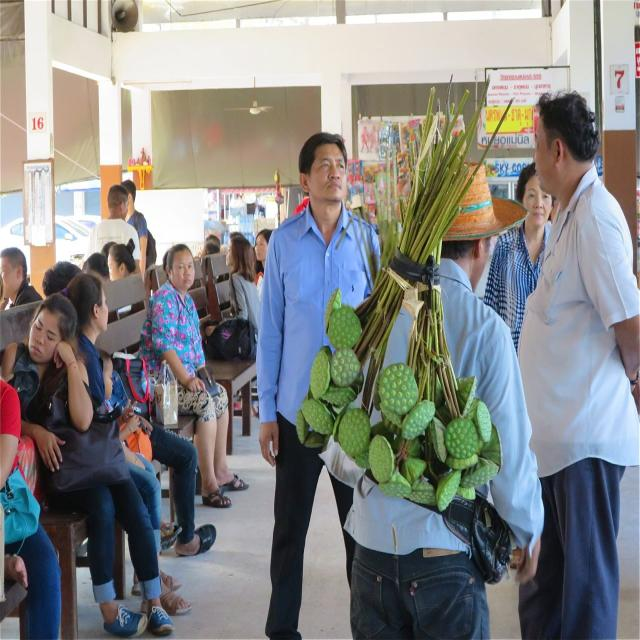body: (315, 156, 549, 640), (512, 88, 640, 640), (254, 131, 384, 640), (0, 289, 175, 640), (57, 271, 195, 617), (136, 239, 252, 512), (479, 159, 557, 356), (0, 315, 67, 502), (136, 413, 218, 557), (204, 234, 260, 355), (87, 184, 143, 284), (43, 238, 117, 302), (106, 235, 142, 360), (119, 178, 157, 286), (0, 245, 44, 309), (252, 228, 273, 274), (199, 230, 227, 254)
